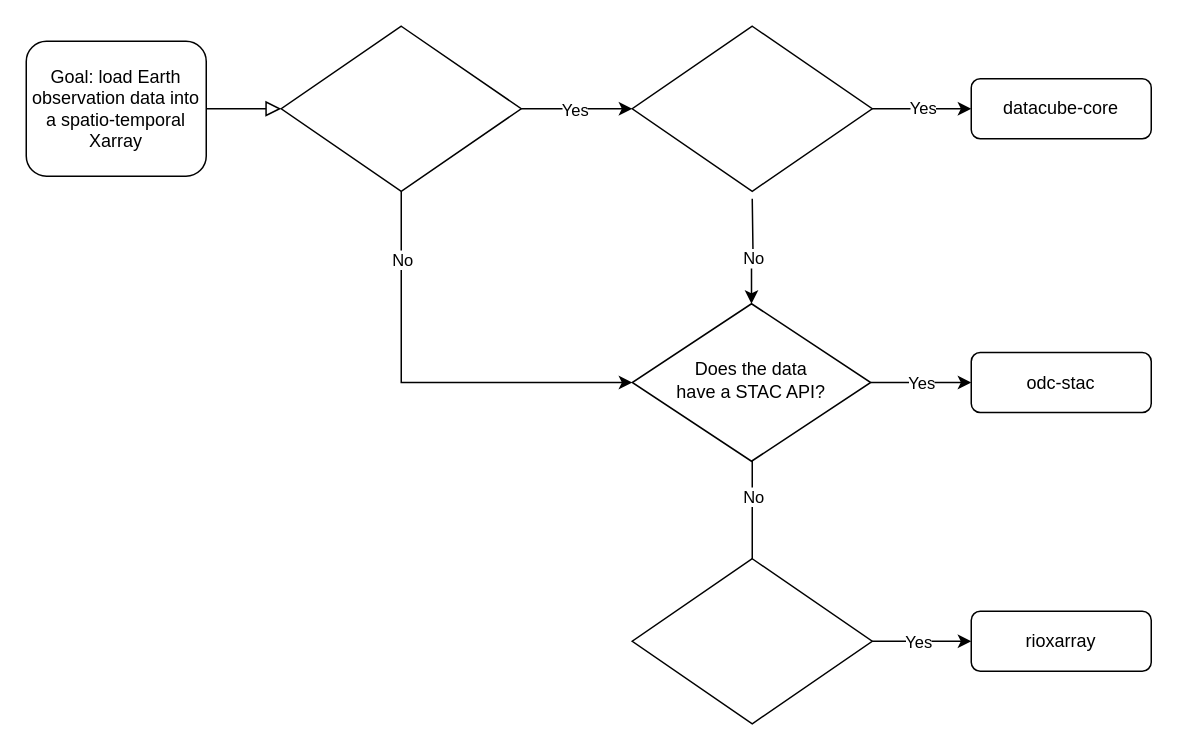
Some shapes in this 1178 by 750 pixel diagram are drawn without their labels. Here are the shapes that lost their labels. From the top down, the box of each, then its label:
(280, 25, 521, 191): Is the data in an existing ODC?
(631, 25, 872, 191): Can you access the ODC database?
(631, 557, 872, 724): Do you have direct access to the data files?
